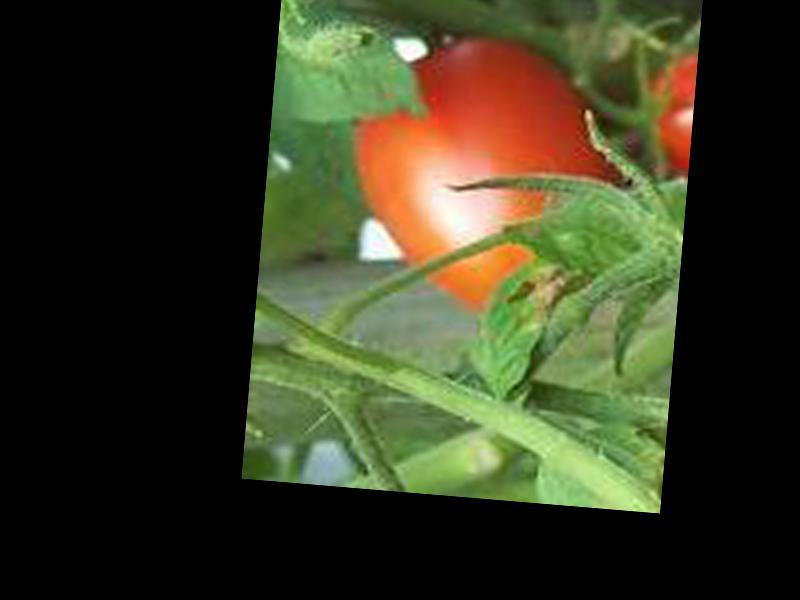Tomato: (340, 28, 618, 315)
